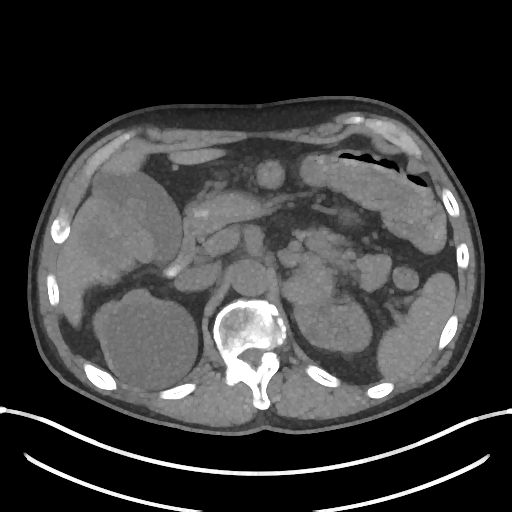Lesion: (101, 295, 201, 391)
